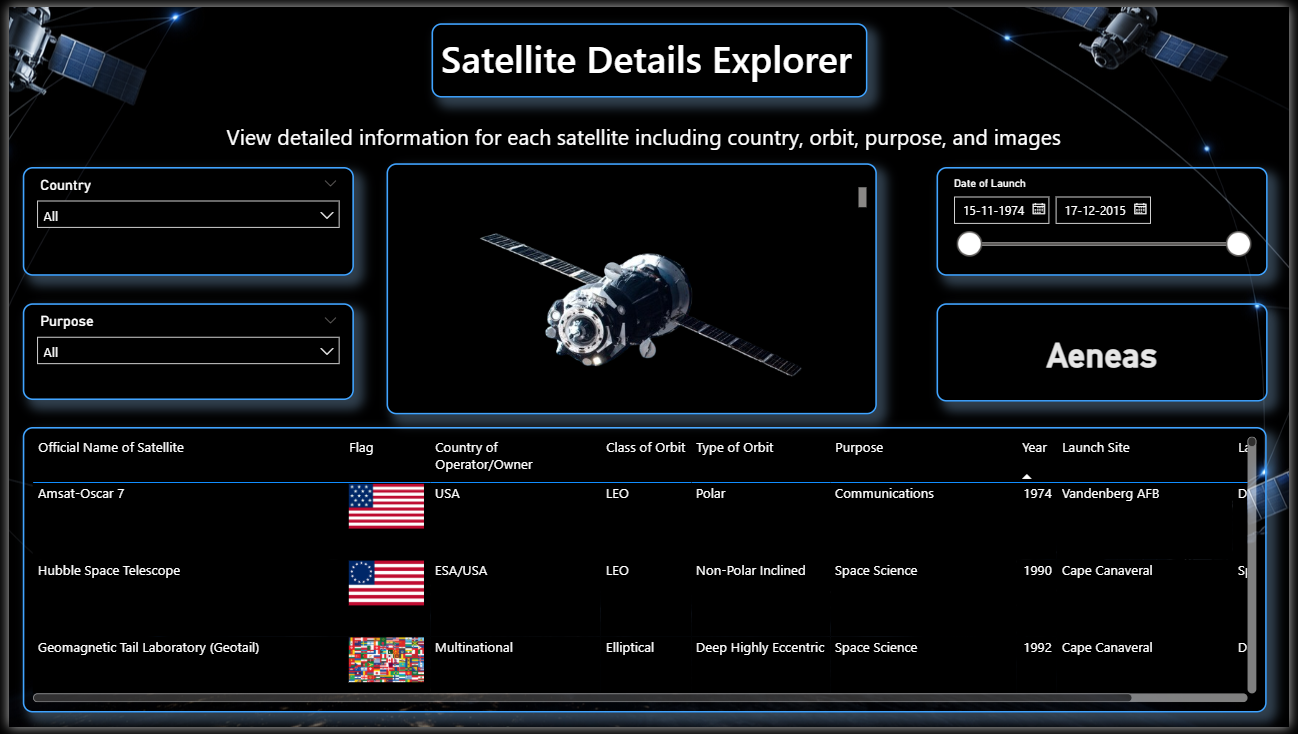

This screenshot's page, from the dashboard's own definition file:
{"tool":"powerbi","page":{"name":"Satellite Details","canvas":[1280,720],"ordinal":4},"visuals":[{"type":"textbox","box":[422.1,15.7,435.7,74.3],"z":0},{"type":"textbox","box":[212.9,110,854.3,45.7],"z":1000},{"type":"tableEx","fields":{"Values":["maindata.Official Name of Satellite","Sheet2.Flag","maindata.Country of Operator/Owner","maindata.Class of Orbit","maindata.Type of Orbit","maindata.Purpose","maindata.Date of Launch.Variation.Date Hierarchy.Year","maindata.Launch Site","maindata.Launch Vehicle"]},"box":[14.3,420,1244.3,285.7],"z":2000},{"type":"slicer","fields":{"Values":["maindata.Country of Operator/Owner"]},"box":[14.3,160,331.4,108.6],"z":3000},{"type":"slicer","fields":{"Values":["maindata.Purpose"]},"box":[14.3,295.7,331.4,97.1],"z":4000},{"type":"slicer","fields":{"Values":["maindata.Date of Launch"]},"box":[927.1,160,331.4,108.6],"z":5000},{"type":"advancedSlicerVisual","fields":{"Values":["Sheet3.sat_img"]},"box":[377.1,155.7,490,251.4],"z":6000},{"type":"card","fields":{"Values":["Min(maindata.Official Name of Satellite)"]},"box":[927.1,295.7,331.4,98.6],"z":7000}]}

Visuals, with their boxes in screenshot pixels (x1, y1, x2, y2), scaled from the page's 1280x720 canvas onto the 1298x734 screenshot:
textbox: 428, 16, 870, 92
textbox: 216, 112, 1082, 159
tableEx - maindata.Official Name of Satellite x Sheet2.Flag: 15, 428, 1276, 719
slicer - maindata.Country of Operator/Owner: 15, 163, 351, 274
slicer - maindata.Purpose: 15, 301, 351, 400
slicer - maindata.Date of Launch: 940, 163, 1276, 274
advancedSlicerVisual - Sheet3.sat_img: 382, 159, 879, 415
card - Min(maindata.Official Name of Satellite): 940, 301, 1276, 402
